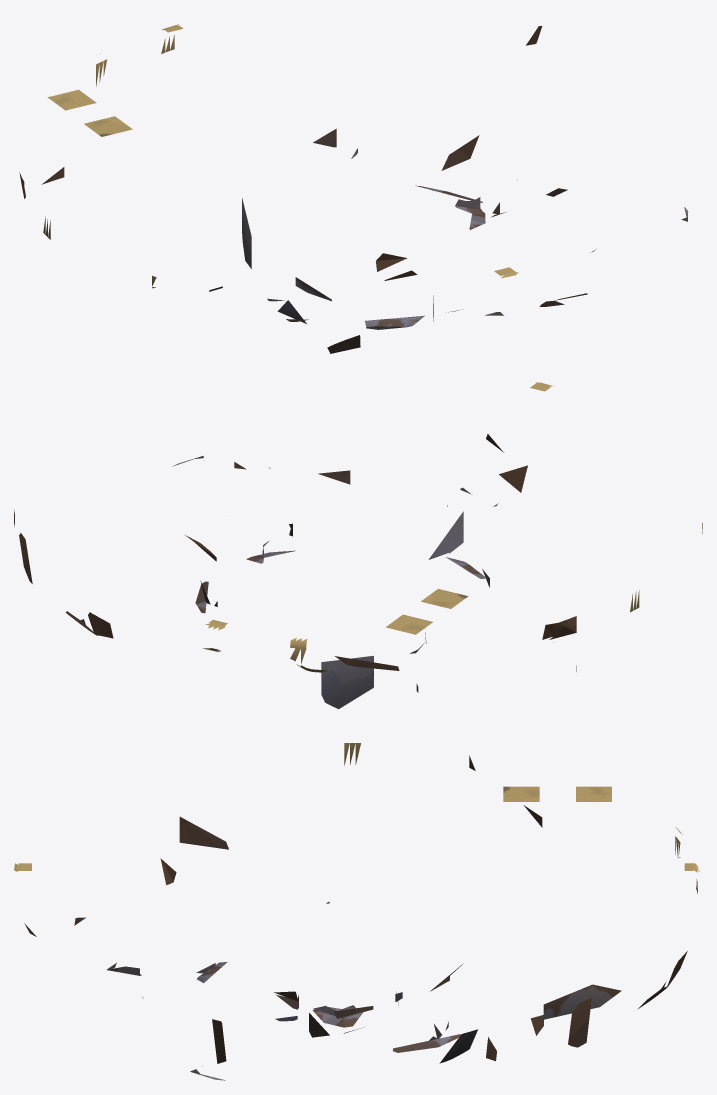
3 renders of one model, top to bottom at view 1: azimuth 30°, elevation 25°; view 2: azimuth 150°, elevation 25°; view 3: azimuth 270°, elevation 25°, orthographic. The views are drawn at different scales.
Parts seen in each view (by area): view 1: Grass_-3_2_0_000, Grass_-3_3_0_000; view 2: Columns_-1_1_-2_010_011, Columns_-1_-3_-1_111, Grass_-3_3_0_000, Grass_-3_2_0_000, Dirt_-5_1_0_110; view 3: Columns_1_3_-1_000_100, Dirt_-4_-3_-1_111, Dirt_3_3_0_101, Columns_1_-1_-1_110, Grass_-3_2_0_000, Grass_-3_3_0_000.
Part boxes in pixels (x1,y1,x2,y2): Grass_-3_2_0_000: (84, 116, 132, 136); Grass_-3_3_0_000: (48, 89, 96, 110); Columns_-1_1_-2_010_011: (321, 655, 373, 709); Columns_-1_-3_-1_111: (428, 511, 463, 559); Grass_-3_3_0_000: (385, 614, 432, 634); Grass_-3_2_0_000: (421, 589, 468, 608); Dirt_-5_1_0_110: (542, 616, 576, 639); Columns_1_3_-1_000_100: (543, 984, 621, 1019); Dirt_-4_-3_-1_111: (179, 817, 228, 849); Dirt_3_3_0_101: (568, 998, 591, 1047); Columns_1_-1_-1_110: (312, 1005, 362, 1027); Grass_-3_2_0_000: (503, 786, 539, 801); Grass_-3_3_0_000: (576, 786, 611, 801).
Size of the model in its own units: 597 by 167 by 608.
66 materials, 66 textured.
